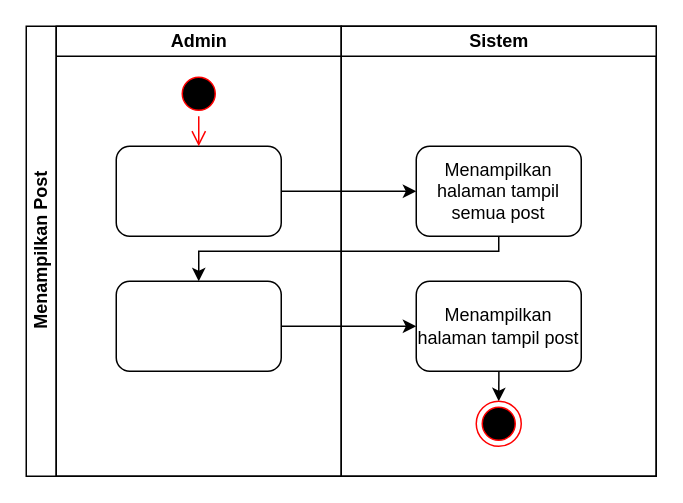
This 683x503 diagram has some shape labels left out. The shapes that lost their labels are listed below. From the top down, each one's box as (x1, y1, x2, y2) in pixels, then its label:
(115, 145, 281, 236): Membuka halaman tampil semua post
(115, 280, 281, 371): Memilih salah satu post
